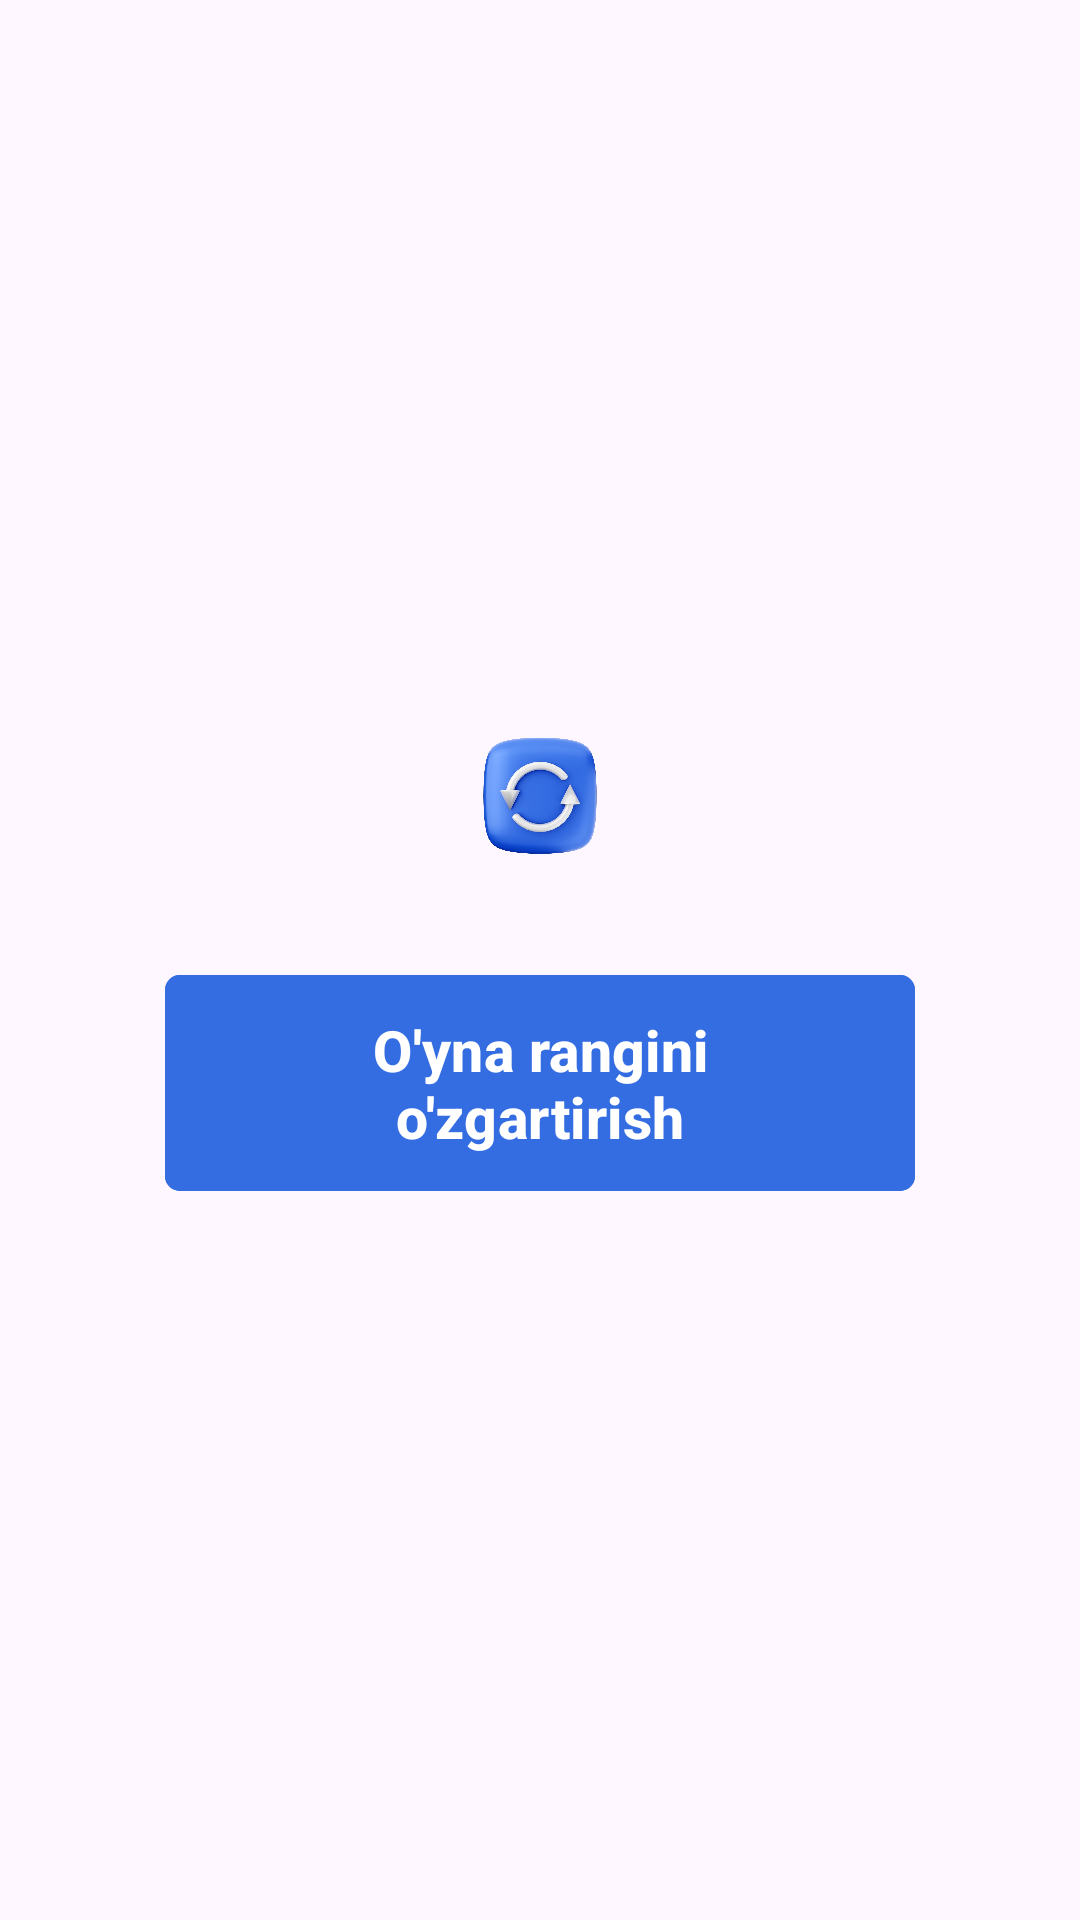

Icons on this 1080w x 1920h Android screen, each with the point to tap as [x,y]:
refresh: [540,796]
